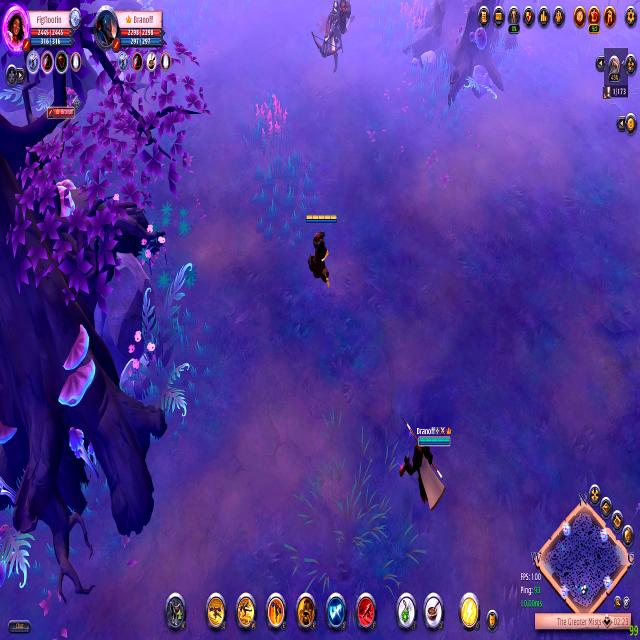ore: (310, 0, 355, 81)
red: (395, 406, 458, 520), (304, 206, 341, 294)
